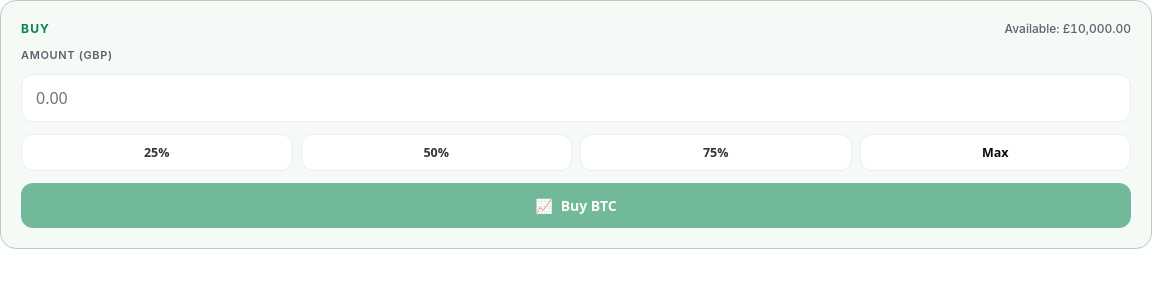
Test case: BuyPanel › shows BTC estimate when a valid amount is typed
Type "5000" into the number field labelled "Amount (GBP)" at coordinates (576, 98), box [21,74,1131,122]
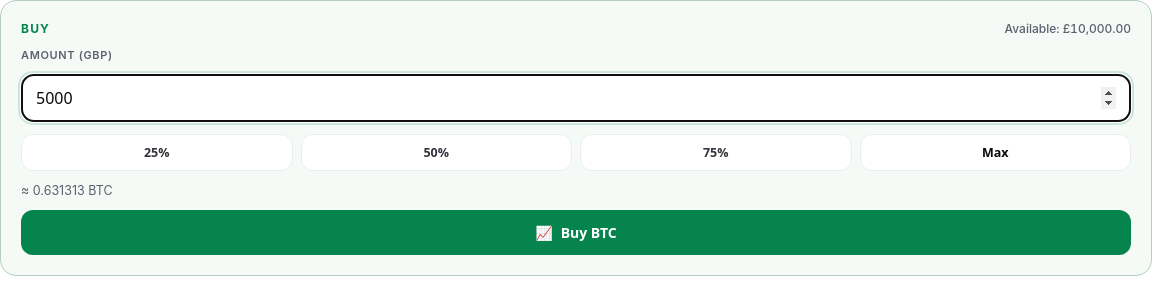
Now the text "≈ 0.631313 BTC" is shown, box [21,183,112,198]
